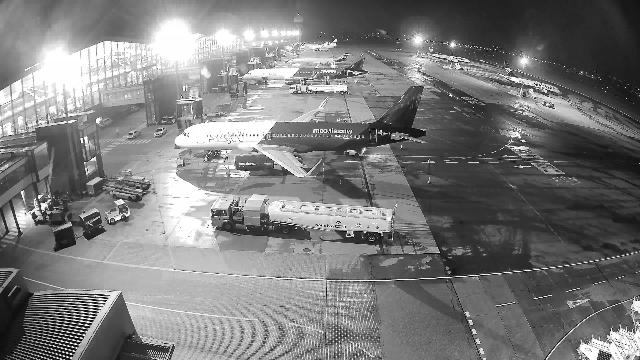Aircraft: (174, 86, 428, 178), (242, 52, 369, 86), (497, 61, 560, 94), (426, 46, 470, 63), (287, 53, 352, 64), (300, 39, 337, 49)
Airport_Tractor: (105, 199, 131, 224), (34, 194, 54, 211), (354, 78, 360, 84)
Baggage_Trolley: (79, 208, 102, 235), (51, 221, 75, 244), (86, 177, 104, 195), (52, 199, 68, 213), (48, 211, 65, 223), (31, 210, 47, 220)
Conveyor_Belt: (103, 176, 146, 201), (111, 169, 151, 190)
Fuel_Tuck: (210, 194, 398, 244), (289, 84, 349, 94)
Ground_Crew: (224, 150, 230, 163)
Pushback_Tug: (203, 107, 226, 117)
